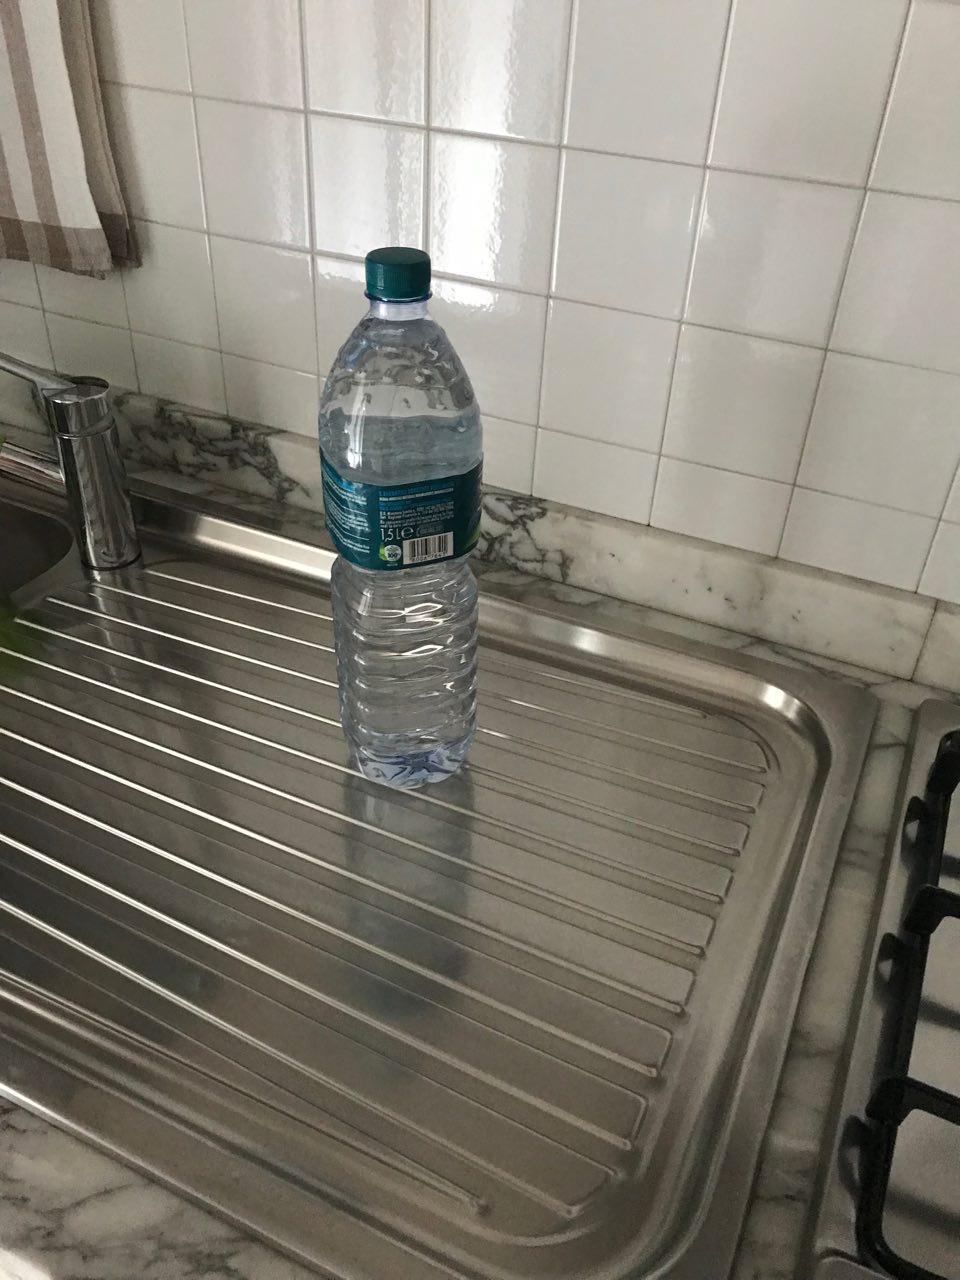san_bernardo: (317, 246, 483, 790)
